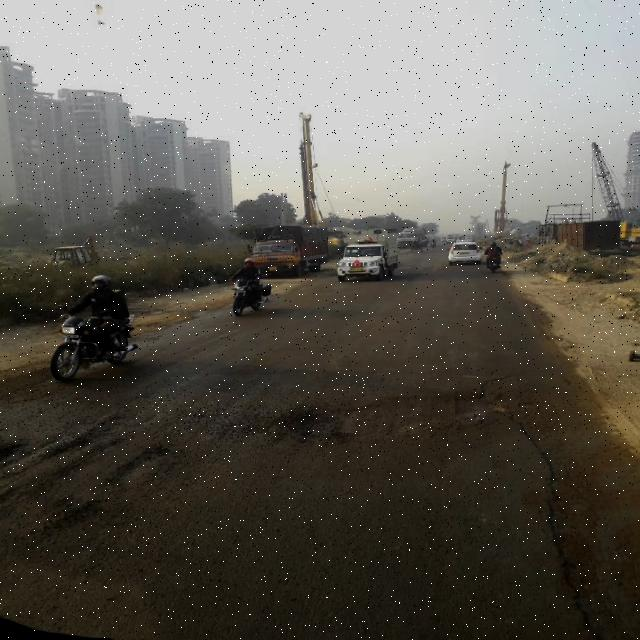D00: (498, 395, 620, 639)
D40: (266, 385, 489, 448)
